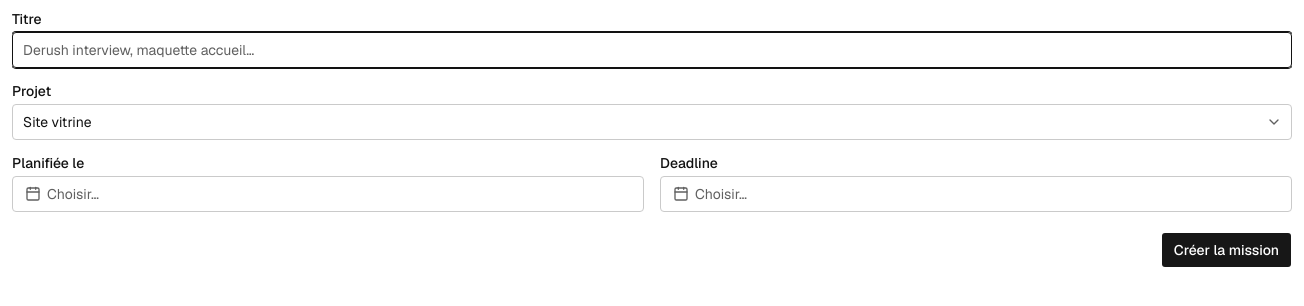
Test: MissionForm (création) › affiche les fieldErrors retournées par le serveur
The width and height of the screenshot is (1304, 306).
Type "X" into the field labelled "Titre" at {"x": 652, "y": 50}, box [12,32,1292,68]
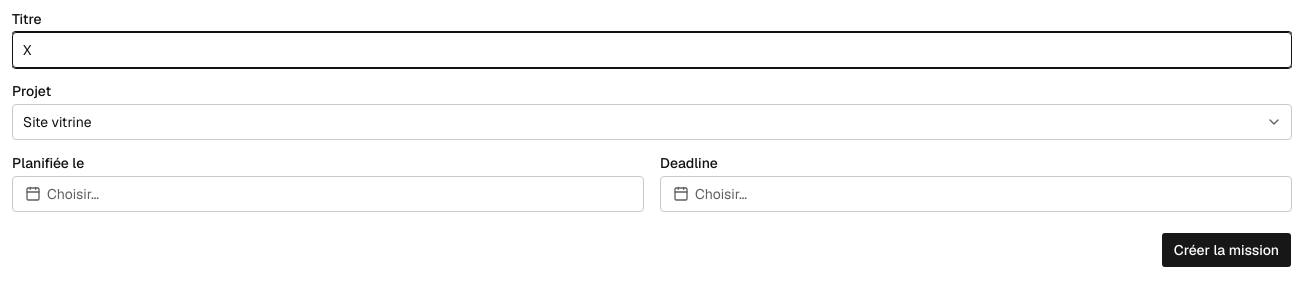
Click the button "Créer la mission" at {"x": 1226, "y": 250}, box [1161,232,1292,268]
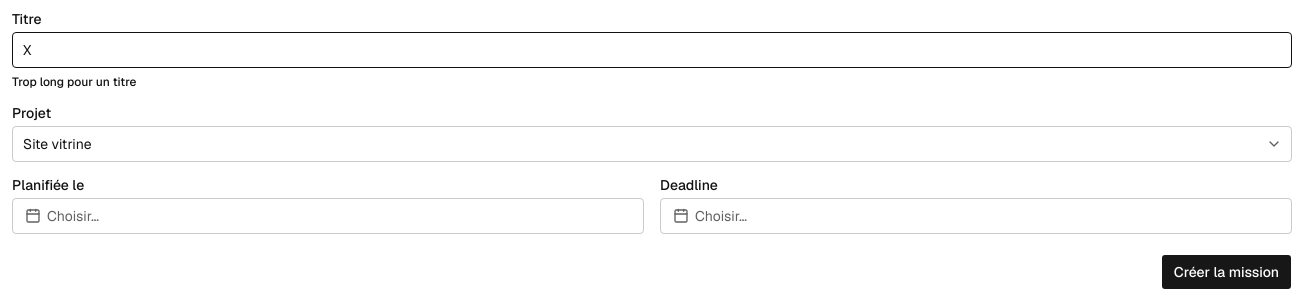
Check: the text "Trop long pour un titre" is shown, box [12,74,136,90]
